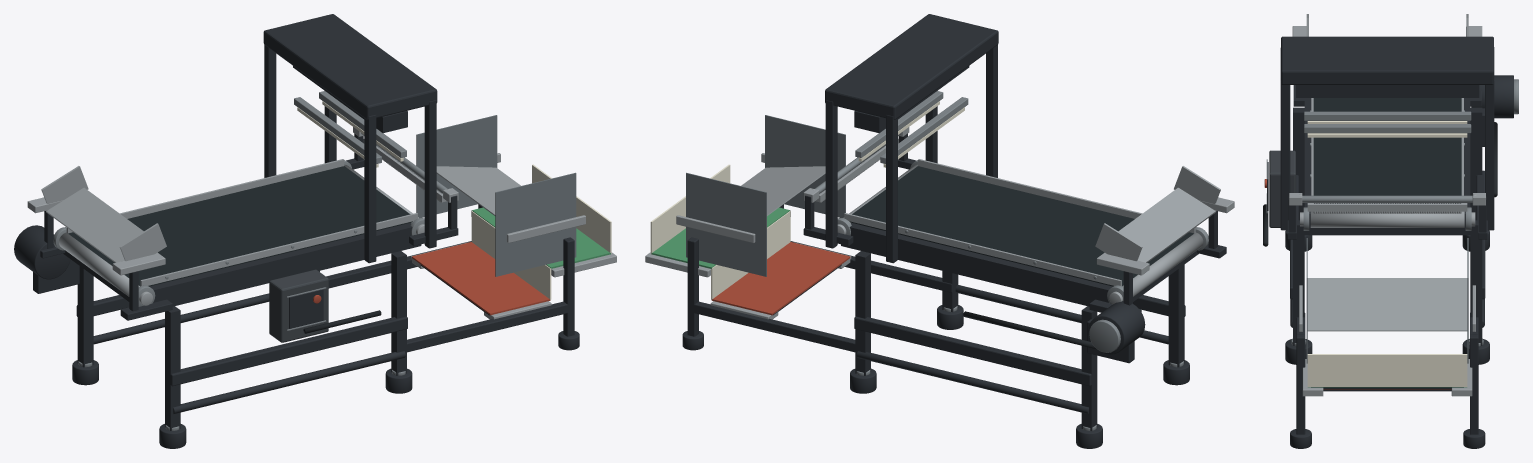
Rendered from machine_lod.glb.
3 renders of one model, left to right at view 1: azimuth 30°, elevation 25°; view 2: azimuth 150°, elevation 25°; view 3: azimuth 270°, elevation 25°, orthographic.
Parts seen in each view (by area): view 1: belt_top, Camera gantry bridge, Recorded surface 01, Recorded surface 17, bin_reject, Recorded surface 16, Lower frame rail left, Recorded surface 08, Control enclosure, Discharge lower tie left, Recorded surface 03, Lower cross tube left (+26 smaller); view 2: belt_top, Camera gantry bridge, Recorded surface 01, Recorded surface 16, bin_reject, Recorded surface 17, Lower frame rail right, Recorded surface 08, Recorded surface 02, Discharge lower tie right, Lower cross tube right, splitter (+24 smaller); view 3: belt_top, Camera gantry bridge, splitter, Recorded surface 20, Recorded surface 01, Recorded surface 11, Recorded surface 23, Inspection light heatsink one, Inspection light heatsink two, Camera gantry post downstream left, Camera gantry post downstream right, Recorded surface 14 (+22 smaller).
Part boxes in pixels (<box>): belt_top: <box>68,166,412,286</box>; Camera gantry bridge: <box>263,14,437,119</box>; Recorded surface 01: <box>63,223,421,306</box>; Recorded surface 17: <box>495,172,576,276</box>; bin_reject: <box>412,242,550,315</box>; Recorded surface 16: <box>416,115,497,217</box>; Lower frame rail left: <box>168,316,407,386</box>; Recorded surface 08: <box>46,187,143,262</box>; Control enclosure: <box>269,269,328,342</box>; Discharge lower tie left: <box>392,301,570,352</box>; Recorded surface 03: <box>140,213,417,286</box>; Lower cross tube left: <box>173,351,405,414</box>; belt_top: <box>849,166,1193,286</box>; Camera gantry bridge: <box>825,14,998,119</box>; Recorded surface 01: <box>841,223,1198,306</box>; Recorded surface 16: <box>686,172,766,276</box>; bin_reject: <box>711,242,850,315</box>; Recorded surface 17: <box>765,115,845,217</box>; Lower frame rail right: <box>854,316,1093,386</box>; Recorded surface 08: <box>1118,187,1216,262</box>; Recorded surface 02: <box>844,213,1121,286</box>; Discharge lower tie right: <box>692,301,855,352</box>; Lower cross tube right: <box>856,351,1088,414</box>; splitter: <box>741,166,825,215</box>; belt_top: <box>1313,98,1461,195</box>; Camera gantry bridge: <box>1281,36,1493,84</box>; splitter: <box>1307,278,1467,331</box>; Recorded surface 20: <box>1307,354,1467,386</box>; Recorded surface 01: <box>1304,98,1470,235</box>; Recorded surface 11: <box>1296,85,1479,97</box>; Recorded surface 23: <box>1310,211,1464,227</box>; Inspection light heatsink one: <box>1304,111,1471,120</box>; Inspection light heatsink two: <box>1304,124,1471,133</box>; Camera gantry post downstream left: <box>1280,78,1290,230</box>; Camera gantry post downstream right: <box>1485,77,1494,230</box>; Recorded surface 14: <box>1307,203,1467,211</box>.
Size of what is drawn, in the model's own units: 1.99 by 1.13 by 0.865.
